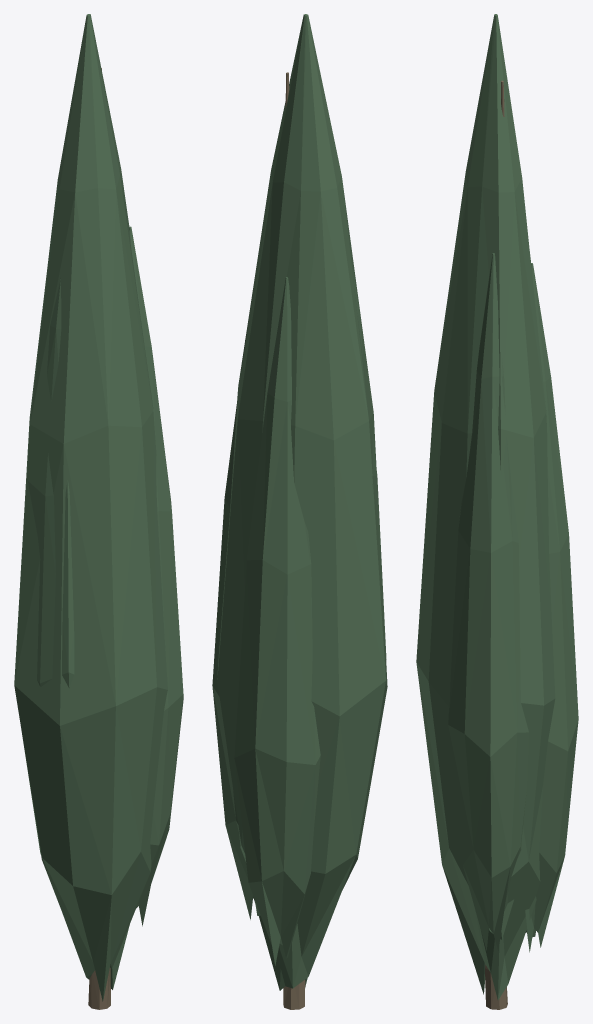
The model's file is cypress.fbx.
3 renders of one model, left to right at view 1: azimuth 30°, elevation 25°; view 2: azimuth 150°, elevation 25°; view 3: azimuth 270°, elevation 25°, orthographic.
Parts seen in each view (by area): view 1: cypress; view 2: cypress; view 3: cypress.
Boxes of the visible parts, bbox=[...] form: cypress: bbox=[14, 14, 183, 1009]; cypress: bbox=[212, 14, 387, 1009]; cypress: bbox=[416, 14, 578, 1009].
Bounding box in the file's own units: 2.5 × 14 × 2.09.
